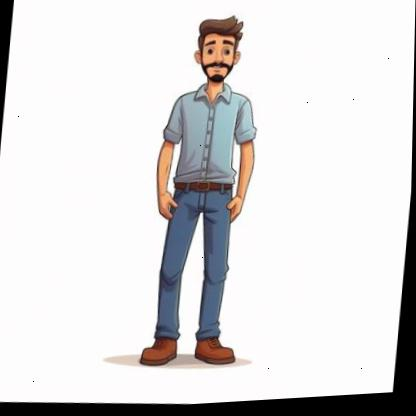person: (116, 1, 284, 379)
